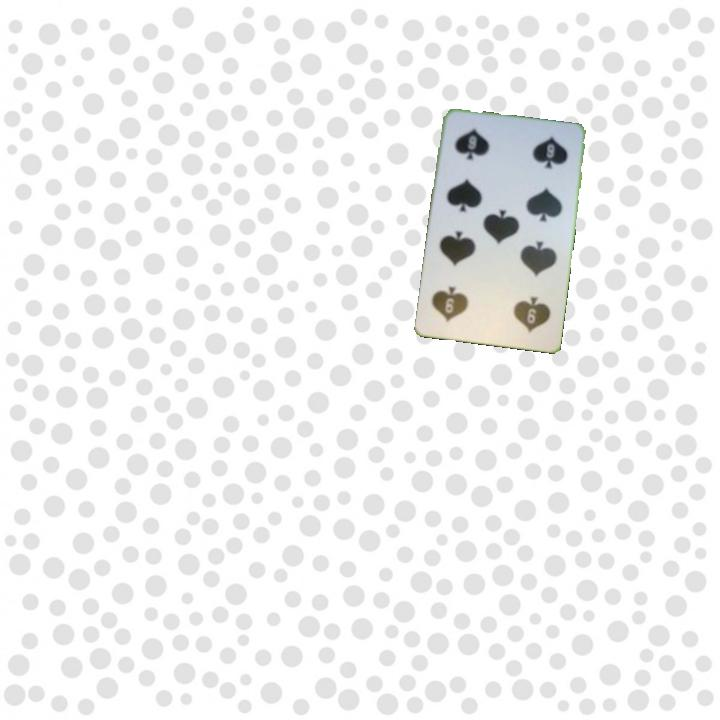s_9.png: (444, 117, 517, 182), (485, 277, 558, 342)
